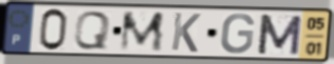0: (37, 7, 70, 52)
G: (219, 12, 257, 55)
K: (169, 11, 203, 54)
M: (255, 13, 305, 56), (118, 10, 166, 53)
Q: (72, 10, 113, 51)
